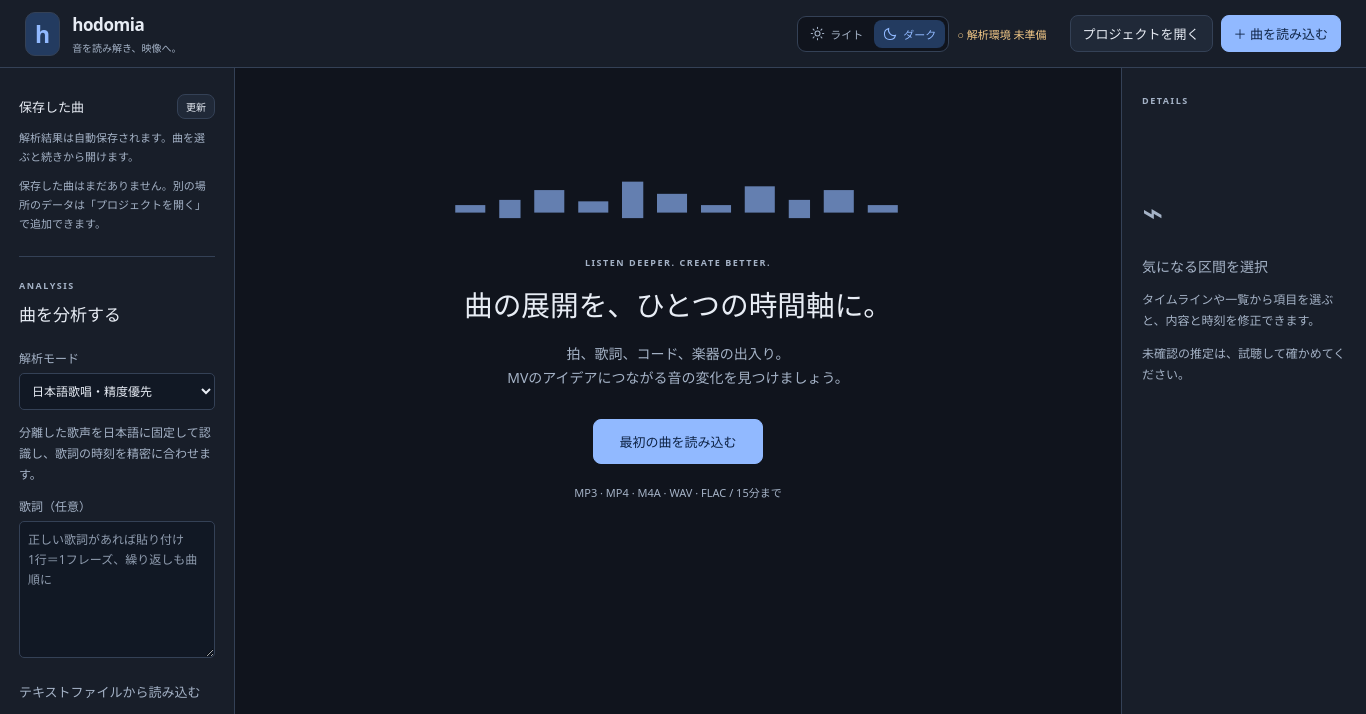
Test case: importing music opens only the source picker
The width and height of the screenshot is (1366, 714).
Click the button "＋ 曲を読み込む" at (1281, 34), box [1221,15,1341,52]
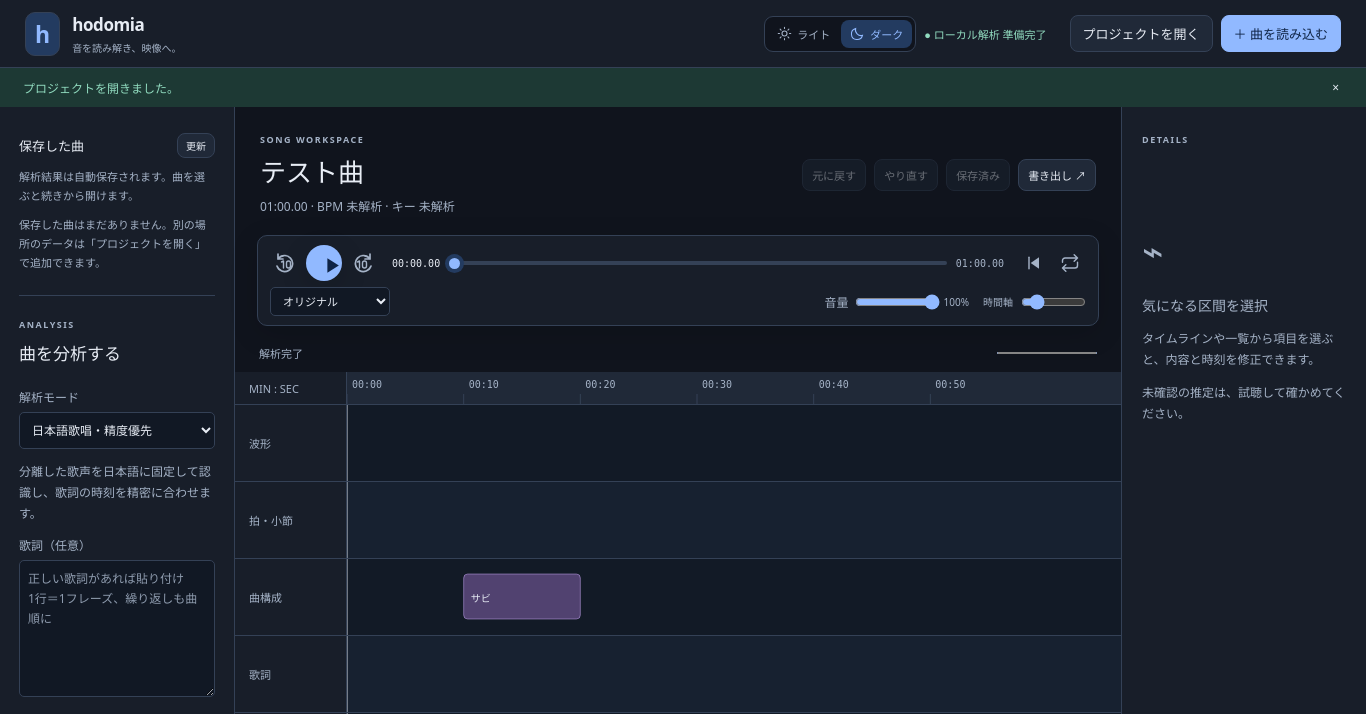
Result: the heading "テスト曲" is shown at [260,154,364,190]
